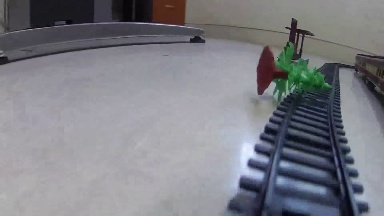tree: (254, 41, 337, 101)
